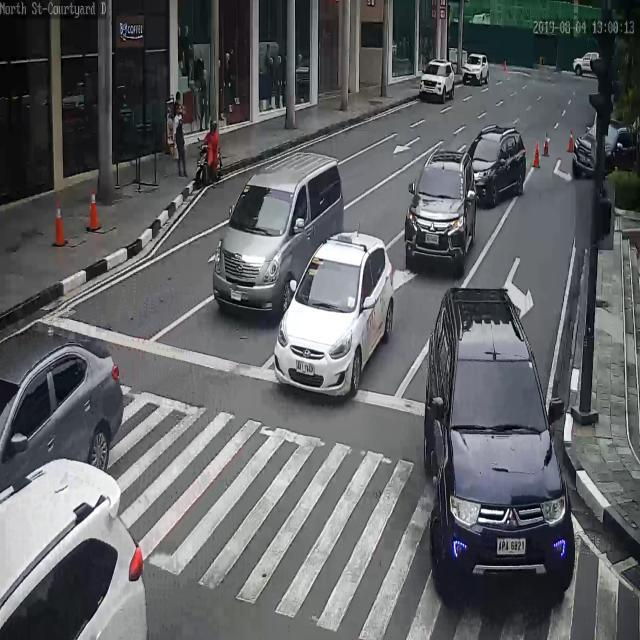car: (437, 266, 577, 640), (0, 449, 142, 640), (0, 337, 123, 510), (273, 232, 396, 394), (403, 143, 475, 271), (467, 126, 529, 205), (572, 119, 639, 179), (417, 59, 457, 105), (462, 53, 491, 86), (573, 51, 600, 77)
jeepney: (198, 122, 224, 191)
van: (210, 154, 347, 316)
